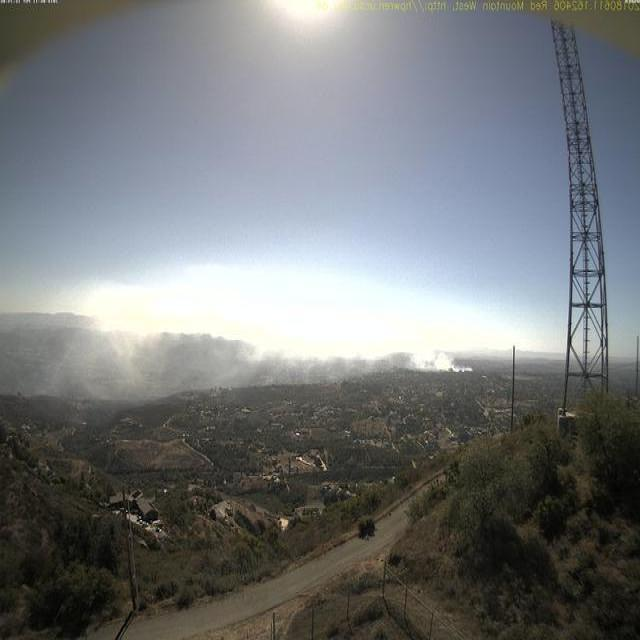Smoke: (35, 312, 475, 407)
